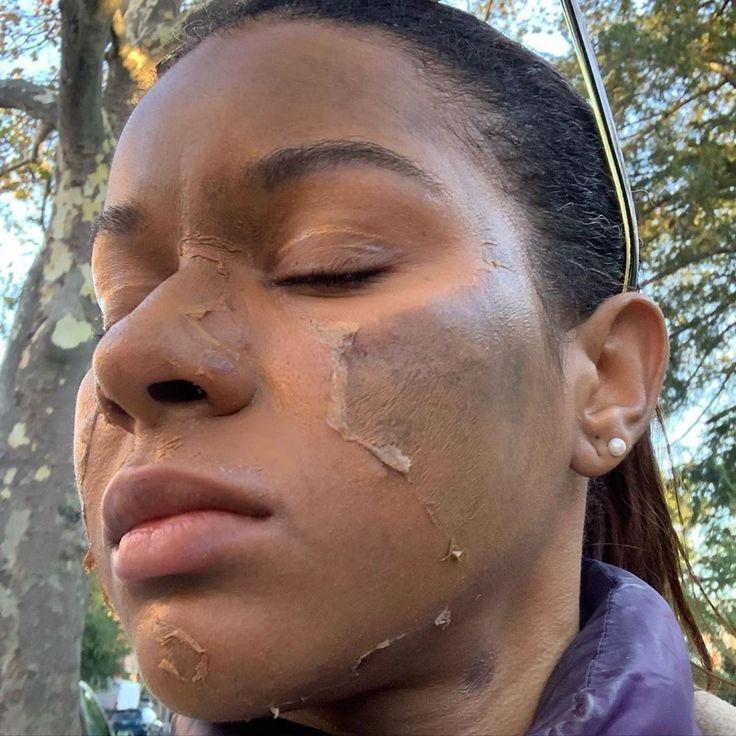Dry-Skin: (342, 340, 500, 480), (414, 522, 514, 674), (166, 226, 230, 324), (162, 636, 230, 716), (350, 614, 408, 698), (468, 258, 522, 340), (62, 384, 96, 484)
